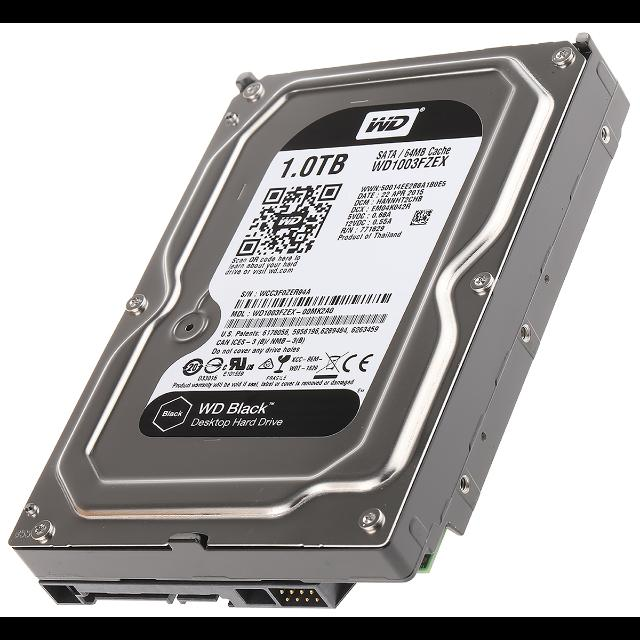HDD: (10, 38, 629, 618)
